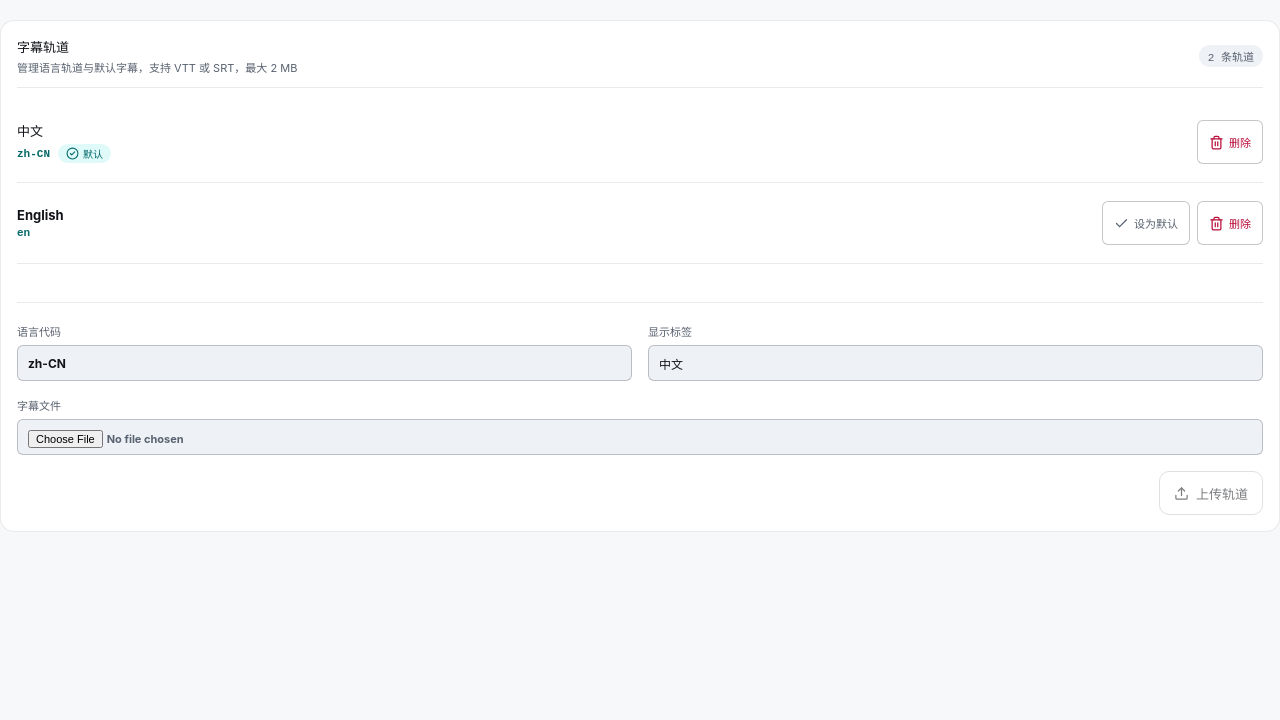
Test: SubtitleManager › track list exposes a default badge and changes default through the existing API
Check: the text "默认" is shown, box [58,144,111,163]
Check: the text "2 条轨道" is shown, box [1199,45,1263,67]
Click the button "设为默认".
click(1146, 223)  # box [1102,201,1190,245]
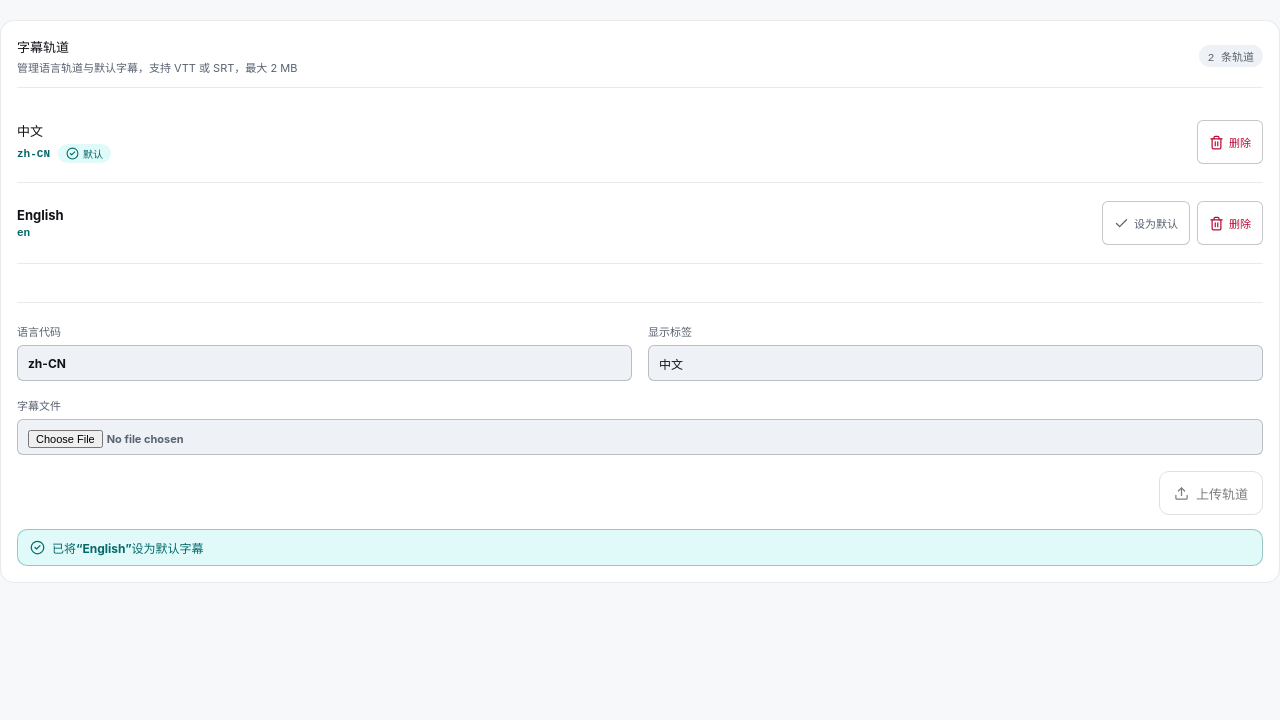
Check: the message "已将“English”设为默认字幕" is shown, box [17,529,1263,566]
